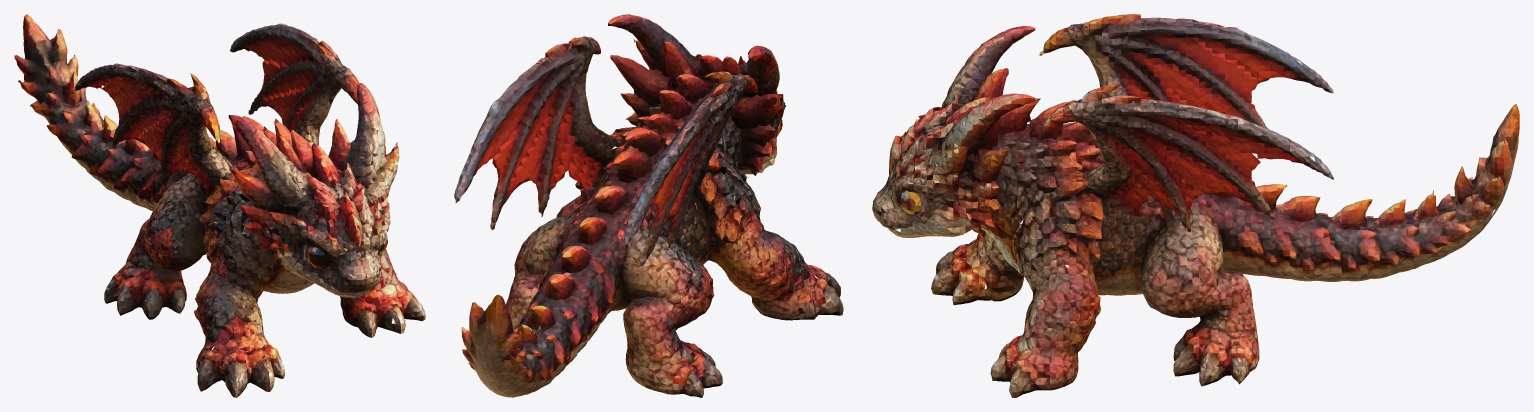
Rendered from draksel.glb.
The picture shows the model from 3 angles, left to right: view 1: azimuth 30°, elevation 25°; view 2: azimuth 150°, elevation 25°; view 3: azimuth 270°, elevation 25°; orthographic projection. The views are drawn at different scales.
Visible parts, largest first — view 1: plush; view 2: plush; view 3: plush.
Part boxes in pixels (bbox=[...]): plush: bbox=[14, 14, 425, 397]; plush: bbox=[454, 14, 843, 397]; plush: bbox=[872, 14, 1519, 397].
Bounding box in the file's own units: 0.4711 × 0.4724 × 0.978.
Materials: 1 (1 with a texture image).
